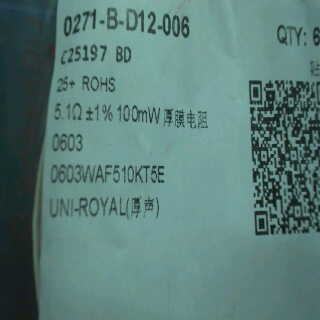5.1R: (52, 99, 88, 126)
